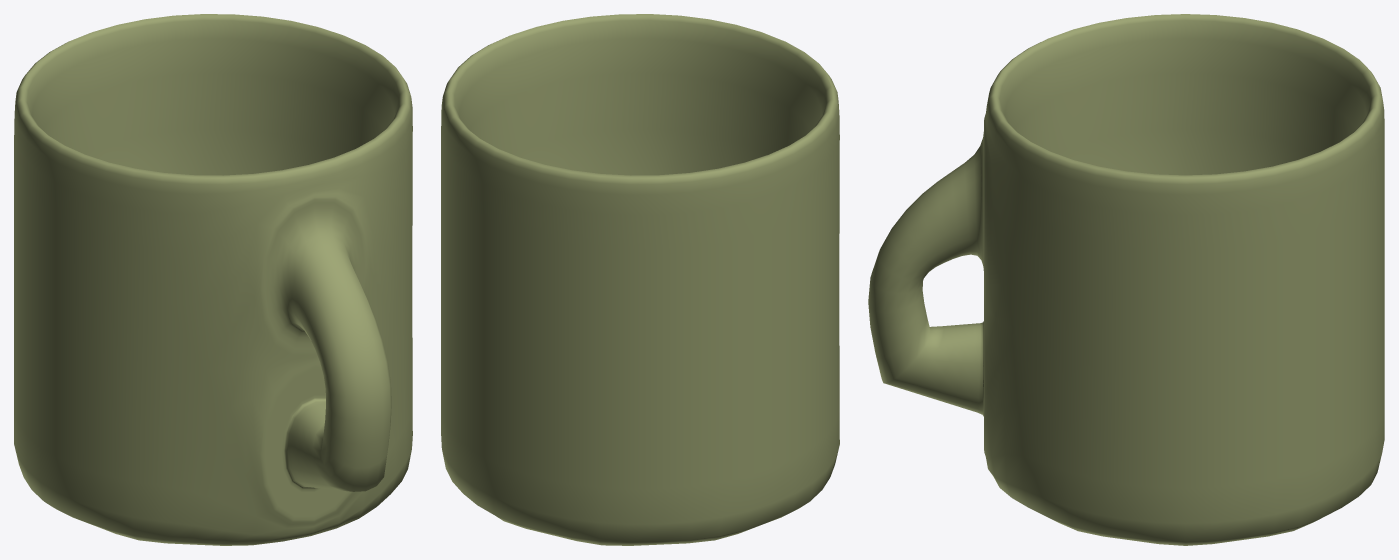
The model's file is cup.fbx.
The picture shows the model from 3 angles, left to right: view 1: azimuth 30°, elevation 25°; view 2: azimuth 150°, elevation 25°; view 3: azimuth 270°, elevation 25°; orthographic projection.
Visible parts, largest first — view 1: pCylinder1; view 2: pCylinder1; view 3: pCylinder1.
Boxes of the visible parts, x1=… form: pCylinder1: x1=14, y1=14, x2=412, y2=545; pCylinder1: x1=441, y1=14, x2=839, y2=545; pCylinder1: x1=868, y1=14, x2=1384, y2=545.
Bounding box in the file's own units: 3.76 × 3.98 × 4.87.
